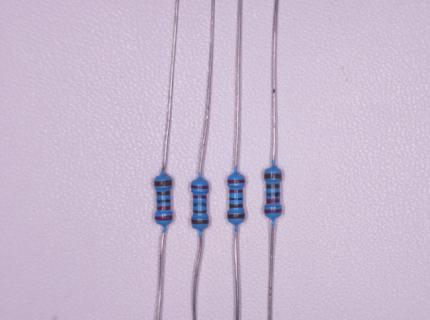Black band: (266, 192, 280, 197), (193, 203, 206, 207), (157, 200, 170, 203), (229, 198, 243, 200)
Brown band: (154, 180, 172, 187), (265, 173, 282, 179), (191, 219, 208, 224), (228, 214, 244, 219), (266, 184, 280, 189), (157, 191, 170, 195), (230, 204, 243, 208), (194, 210, 206, 213)
Red band: (155, 215, 173, 221), (265, 208, 282, 213), (191, 185, 209, 189), (228, 179, 245, 183), (266, 199, 280, 203), (157, 206, 170, 210), (230, 189, 242, 193), (193, 195, 206, 198)
